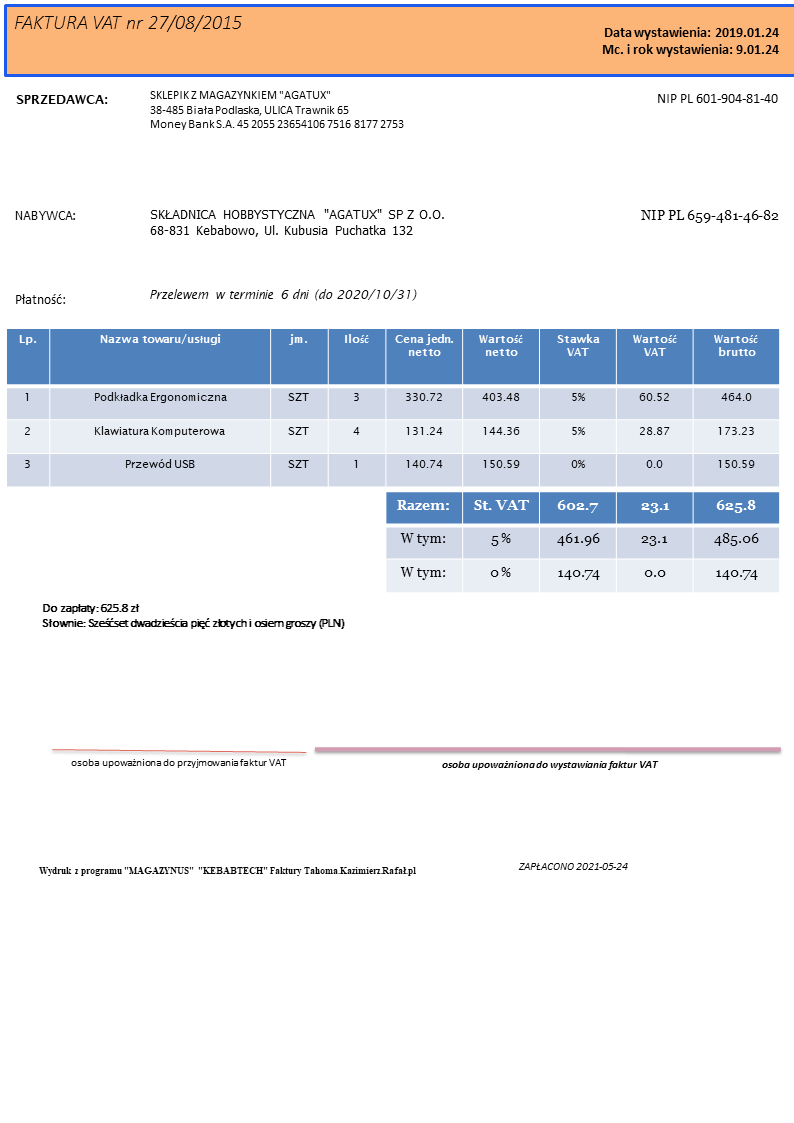Table: (5, 327, 780, 488), (384, 489, 782, 593)
TextBox: (146, 86, 406, 134), (145, 204, 447, 239), (39, 600, 347, 633), (597, 22, 783, 60), (37, 862, 417, 880), (10, 10, 246, 35), (146, 286, 419, 304), (67, 754, 289, 771), (438, 756, 661, 772), (637, 206, 782, 226), (655, 89, 779, 109), (12, 89, 110, 109), (516, 859, 629, 874), (12, 207, 78, 224), (13, 290, 67, 308)
